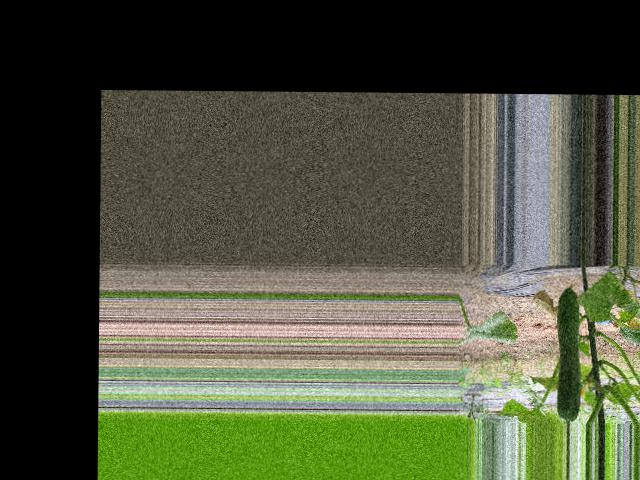cucumber: (555, 283, 581, 421)
